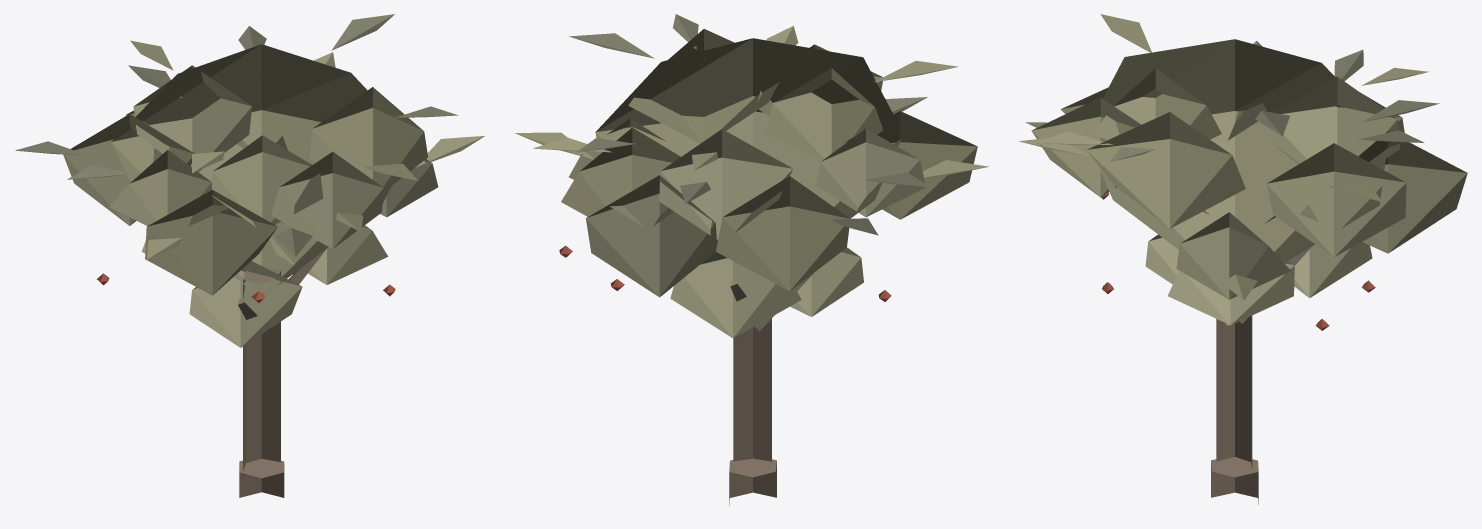
The model's file is shu.xiangzhang@fruiting__winter.glb.
3 renders of one model, left to right at view 1: azimuth 30°, elevation 25°; view 2: azimuth 150°, elevation 25°; view 3: azimuth 270°, elevation 25°, orthographic. The views are drawn at different scales.
Visible parts, largest first — view 1: shu.xiangzhang@fruiting__winter; view 2: shu.xiangzhang@fruiting__winter; view 3: shu.xiangzhang@fruiting__winter.
Boxes of the visible parts, <box> form: shu.xiangzhang@fruiting__winter: <box>15,14,485,497</box>; shu.xiangzhang@fruiting__winter: <box>515,14,988,505</box>; shu.xiangzhang@fruiting__winter: <box>1019,14,1467,504</box>.
Bounding box in the file's own units: 17.03 × 17.47 × 15.63.
